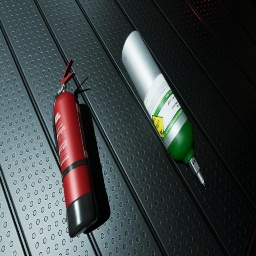0: (122, 30, 205, 186)
FireExtinguisher ]: (52, 59, 98, 238)
